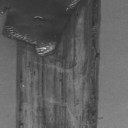slag inclusion: (0, 0, 101, 128)
